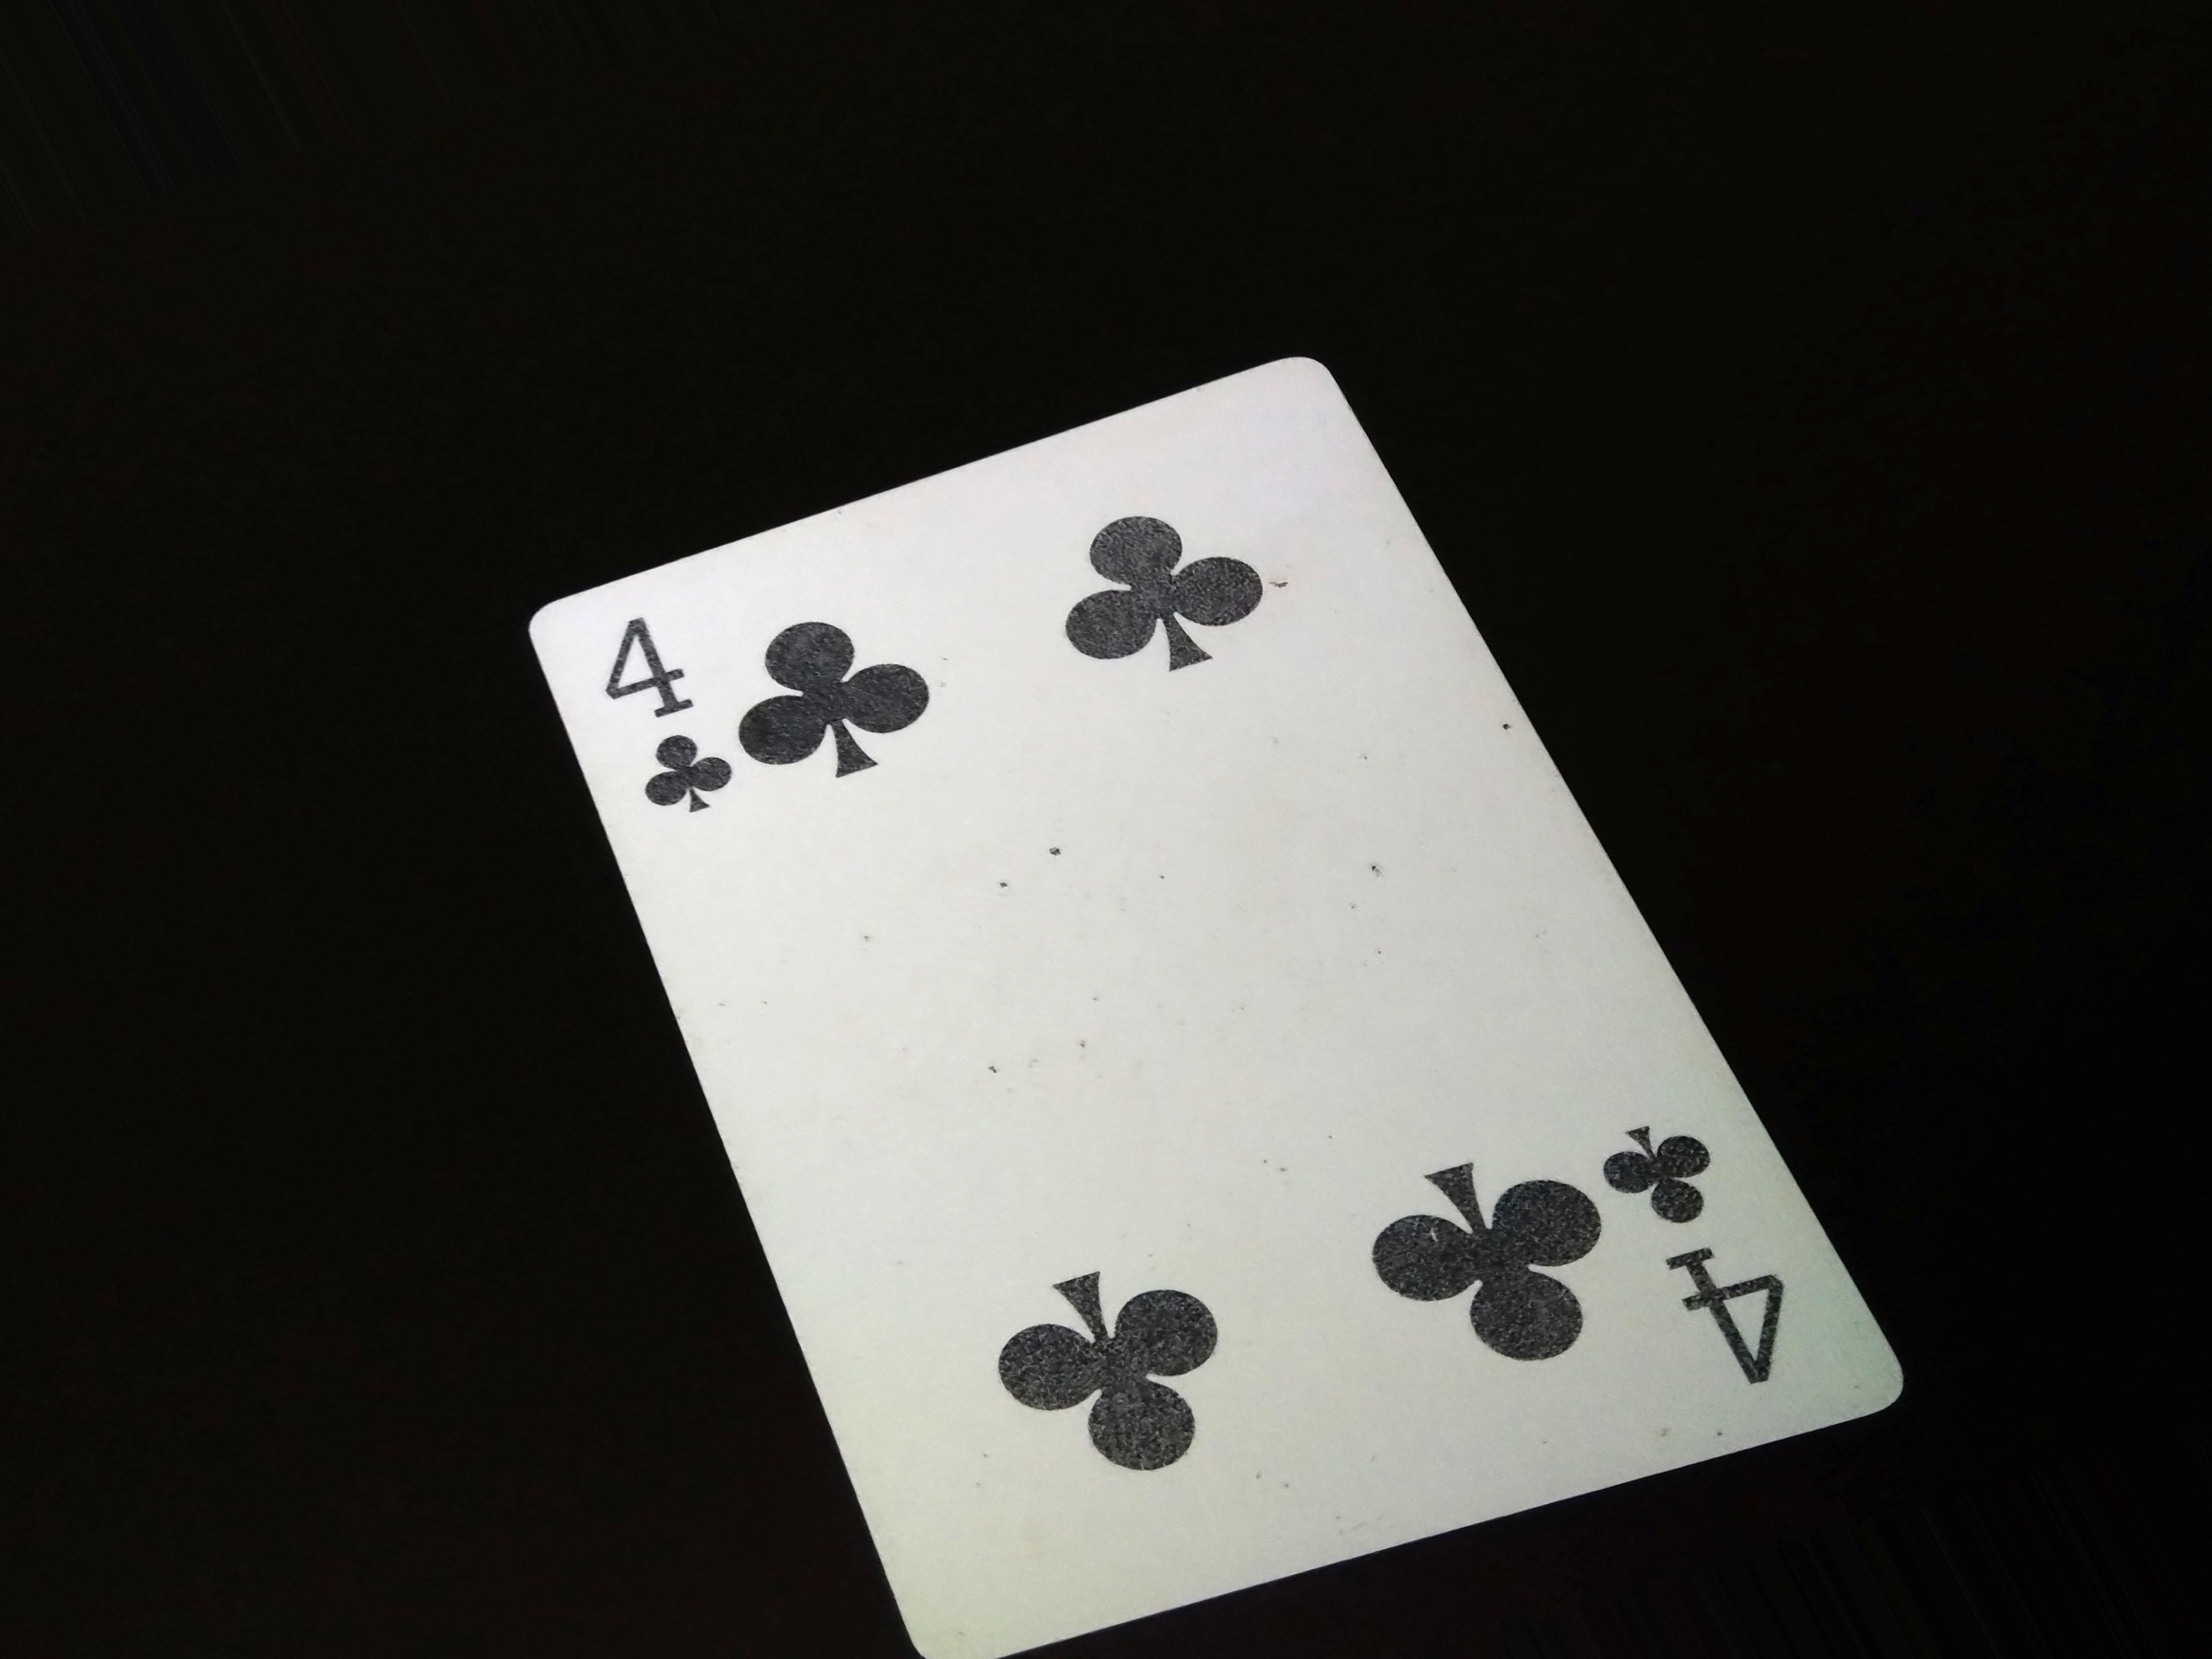4C: (1620, 1115, 1787, 1422)
